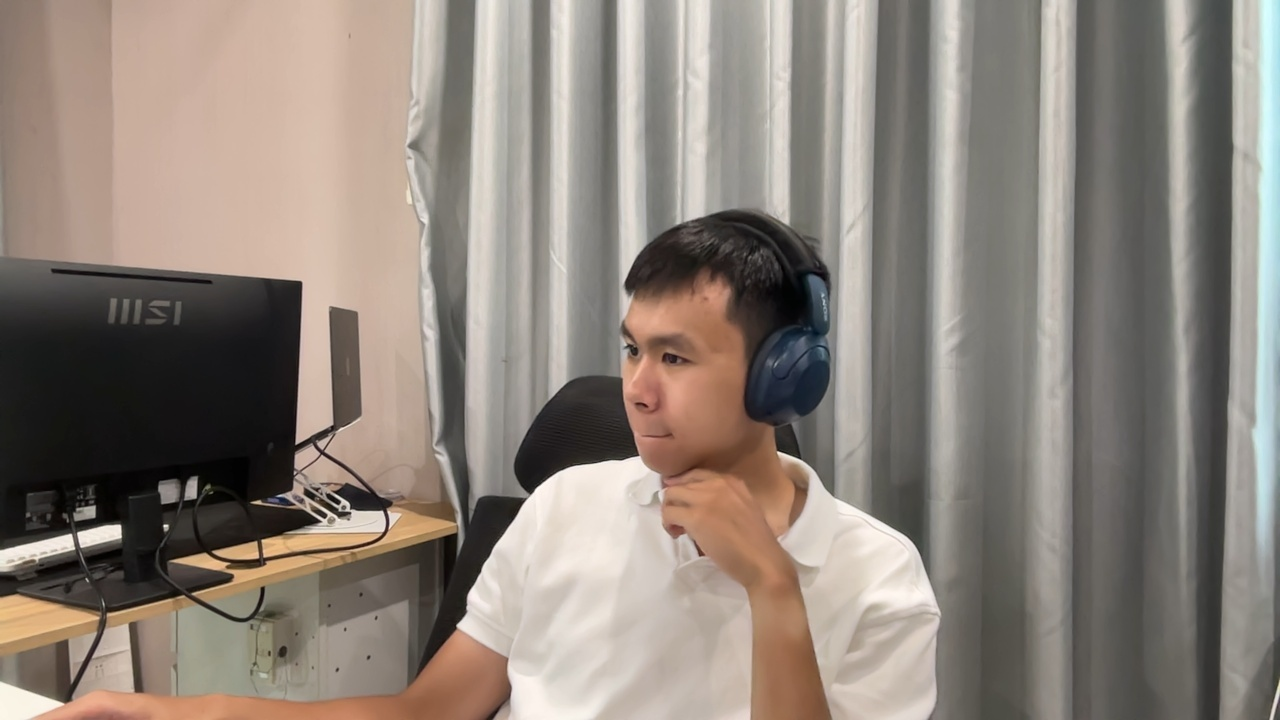over_ear: (741, 269, 834, 427), (741, 270, 833, 427)
